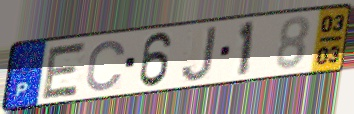1: (235, 19, 256, 80)
6: (137, 30, 173, 89)
8: (274, 13, 314, 73)
C: (84, 38, 129, 93)
E: (39, 40, 90, 102)
J: (179, 24, 219, 84)
